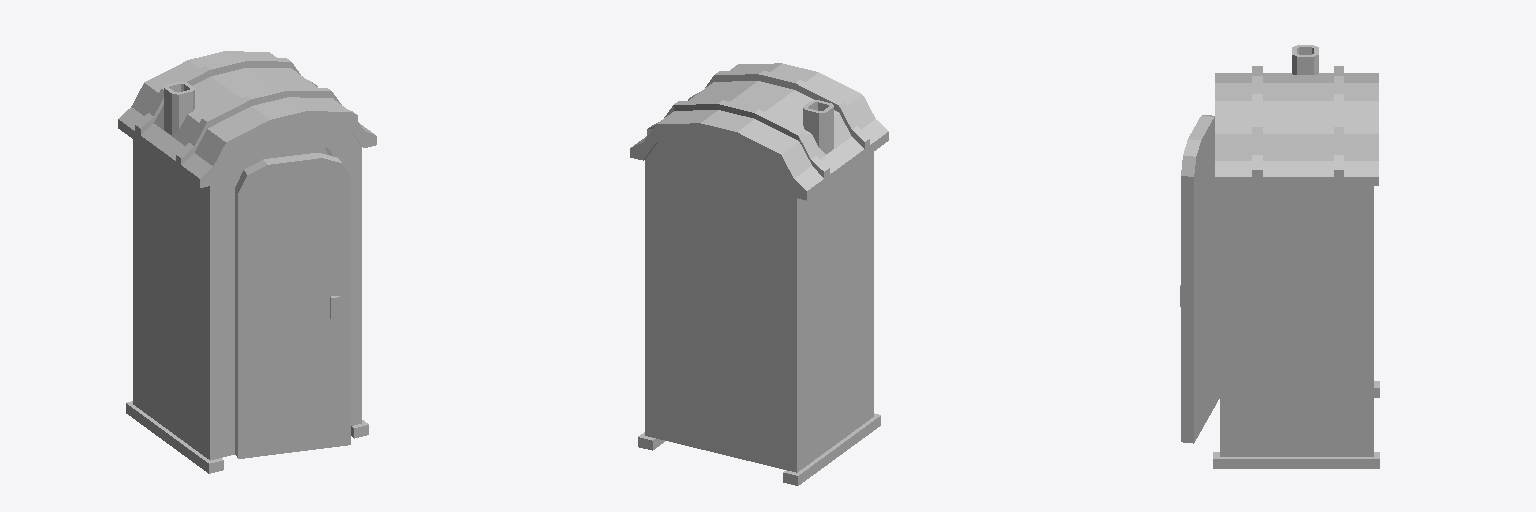
Rendered from bañoM.obj.
3 renders of one model, left to right at view 1: azimuth 30°, elevation 25°; view 2: azimuth 150°, elevation 25°; view 3: azimuth 270°, elevation 25°, orthographic.
Visible parts, largest first — view 1: ToiletStall_Open; view 2: ToiletStall_Open; view 3: ToiletStall_Open.
Part boxes in pixels (x1,y1,x2,y2): ToiletStall_Open: (118,51,376,473); ToiletStall_Open: (630,63,888,485); ToiletStall_Open: (1180,45,1379,468).
Bounding box in the file's own units: 6.68 × 12.57 × 6.55.